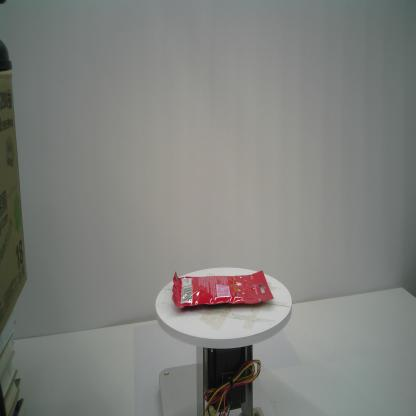Candy: (172, 266, 274, 310)
